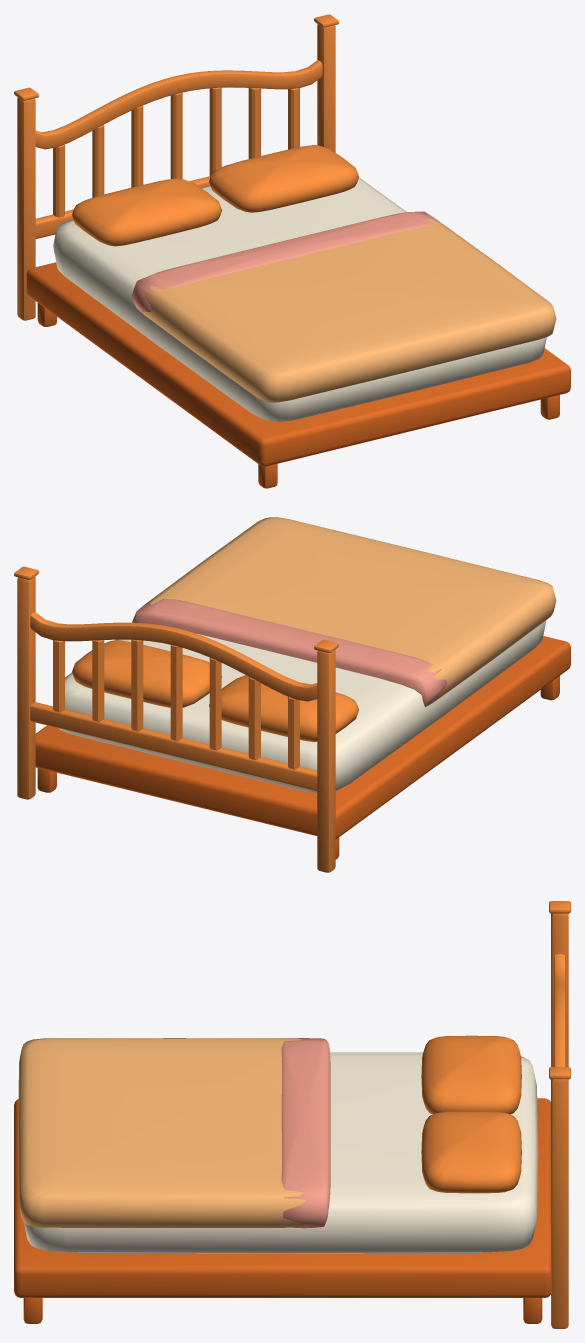
Rendered from cama_casal_grade_arco_laranja.glb.
3 views of the same model, one above another, from view 1: azimuth 30°, elevation 25°; view 2: azimuth 150°, elevation 25°; view 3: azimuth 270°, elevation 25° (orthographic). The views are drawn at different scales.
Visible parts, largest first — view 1: cama_casal_grade_arco_laranja; view 2: cama_casal_grade_arco_laranja; view 3: cama_casal_grade_arco_laranja.
Boxes of the visible parts, box(x1,y1,x2,y2) form: cama_casal_grade_arco_laranja: box(14, 14, 570, 488); cama_casal_grade_arco_laranja: box(14, 517, 570, 872); cama_casal_grade_arco_laranja: box(14, 901, 570, 1328).
Bounding box in the file's own units: 1.53 × 1.04 × 2.05.
Materials: 1 (1 with a texture image).
